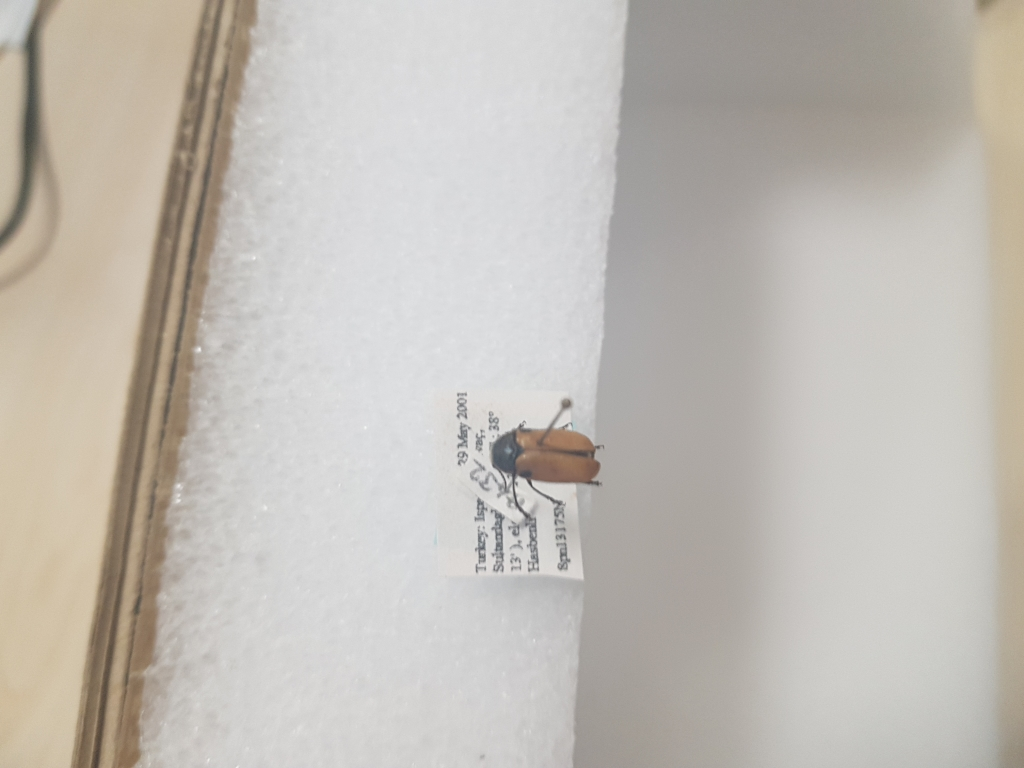Labidostomis_asiatica: (488, 423, 619, 519)
